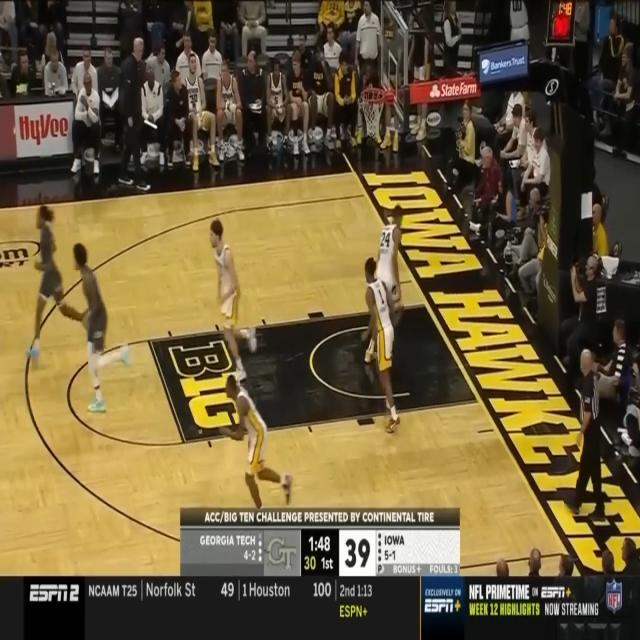Clock: (547, 0, 575, 45)
Hoop: (360, 85, 386, 136)
Overlay: (0, 575, 640, 640), (180, 508, 460, 576)
Player: (219, 373, 294, 527), (25, 203, 88, 371), (72, 241, 130, 416), (206, 218, 258, 384), (362, 255, 401, 437), (364, 204, 403, 364)
Ref: (562, 346, 605, 520)
Scoreboard: (180, 530, 460, 576)
